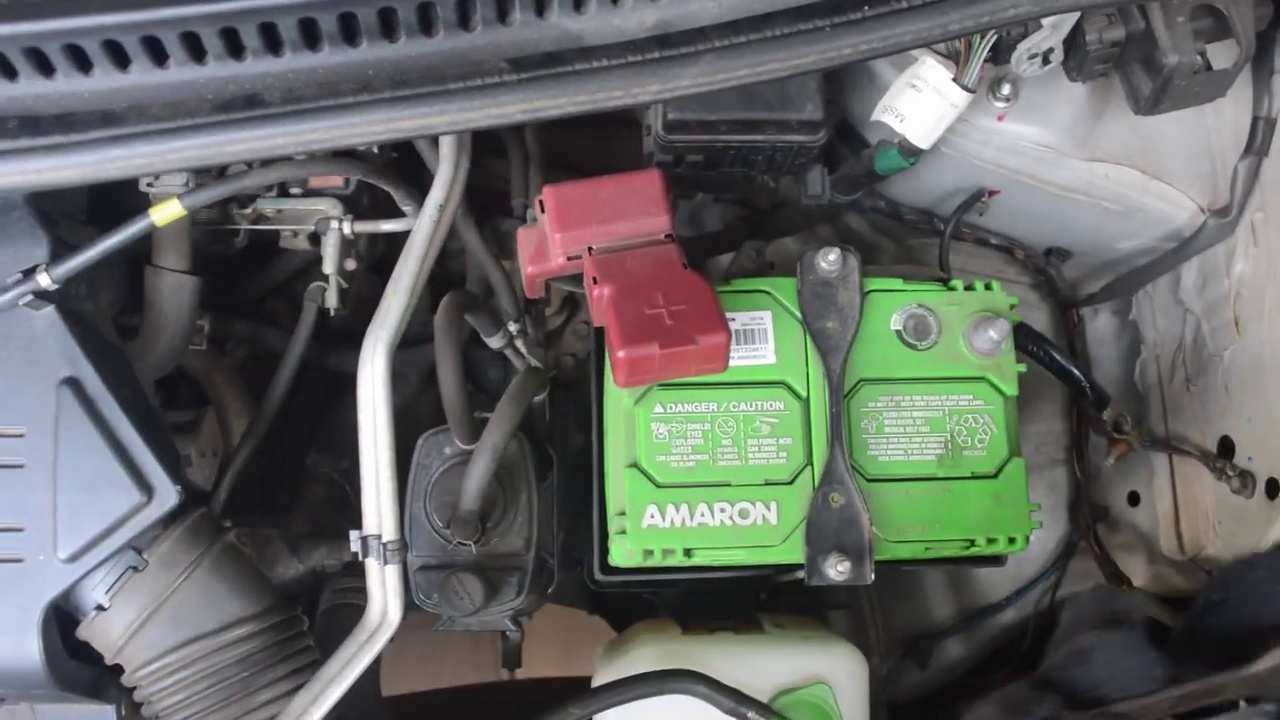battery: (568, 236, 1044, 561)
neg_disconnected: (951, 290, 1045, 376)
pos_connected: (552, 189, 735, 398)
